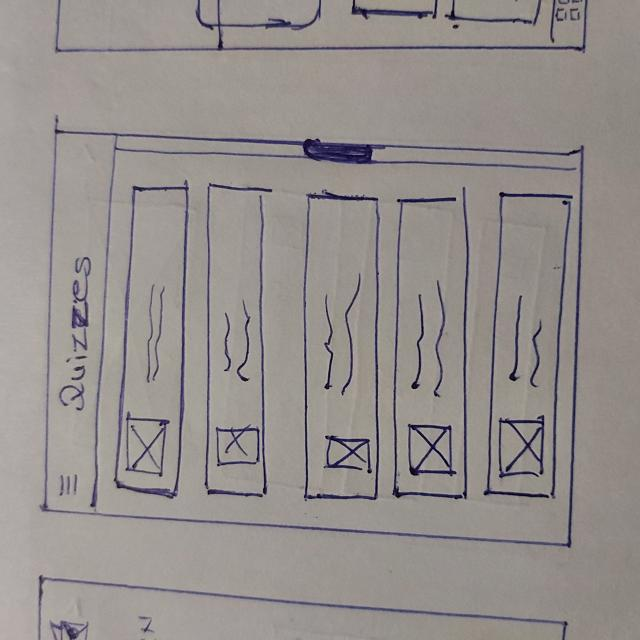AppBar: (41, 127, 112, 515)
DrawerToggleButton: (56, 472, 82, 499)
Image: (500, 416, 544, 479), (406, 422, 456, 477), (127, 414, 169, 478), (212, 422, 263, 466), (323, 435, 369, 474)
Layout: (482, 189, 574, 502), (299, 190, 382, 500), (393, 191, 471, 500), (114, 180, 189, 500), (203, 178, 274, 501)
ListView: (111, 180, 570, 507)
MainLayout: (31, 124, 593, 558)
ScrollBar: (116, 131, 585, 176)
TextView: (404, 277, 451, 407), (322, 273, 362, 401), (59, 251, 91, 408), (215, 297, 255, 387), (509, 288, 540, 397), (146, 283, 167, 386)
VerticalListView: (110, 173, 574, 508)
